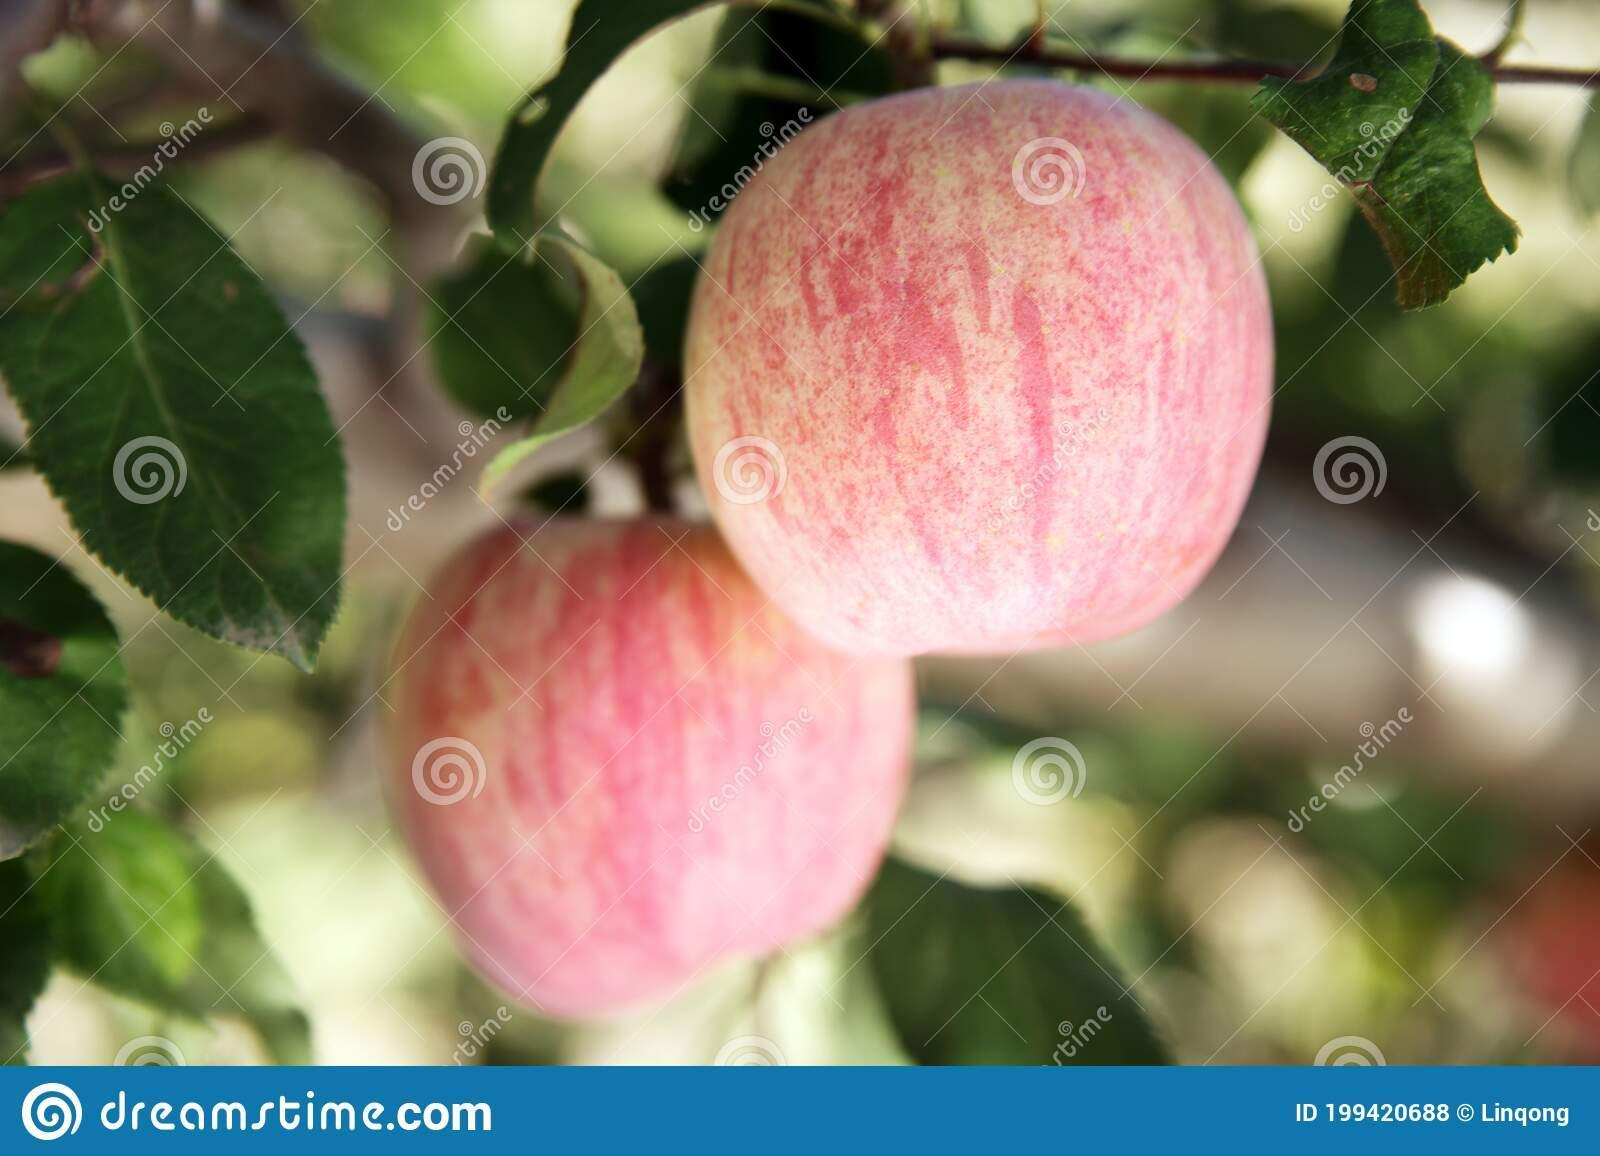apple: (686, 75, 1282, 649), (373, 508, 920, 1016)
